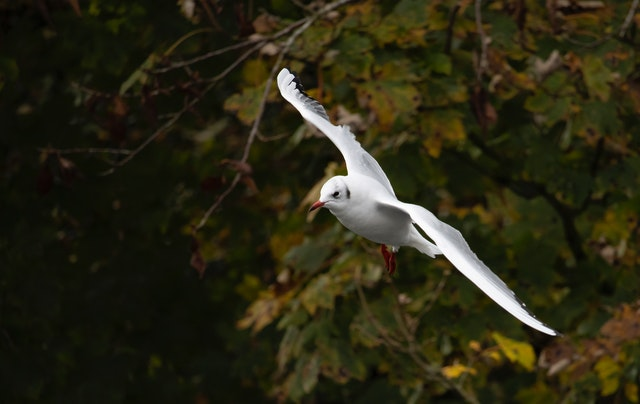bird: (276, 67, 560, 338)
